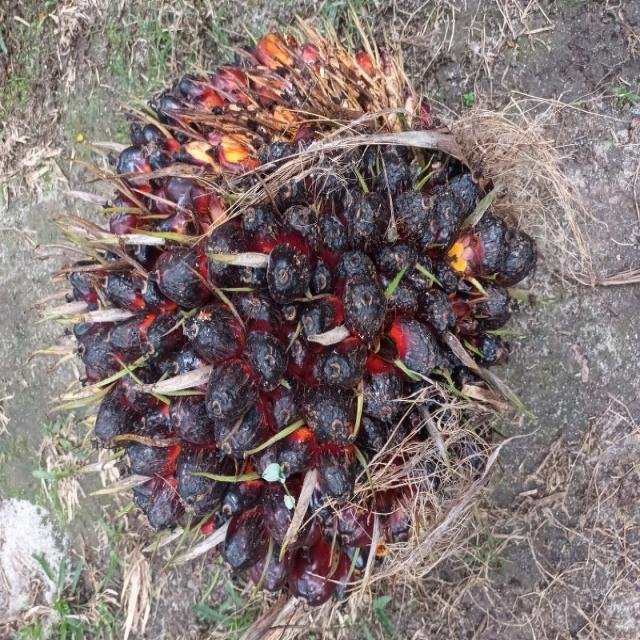fraksi 00: (0, 38, 478, 639)
